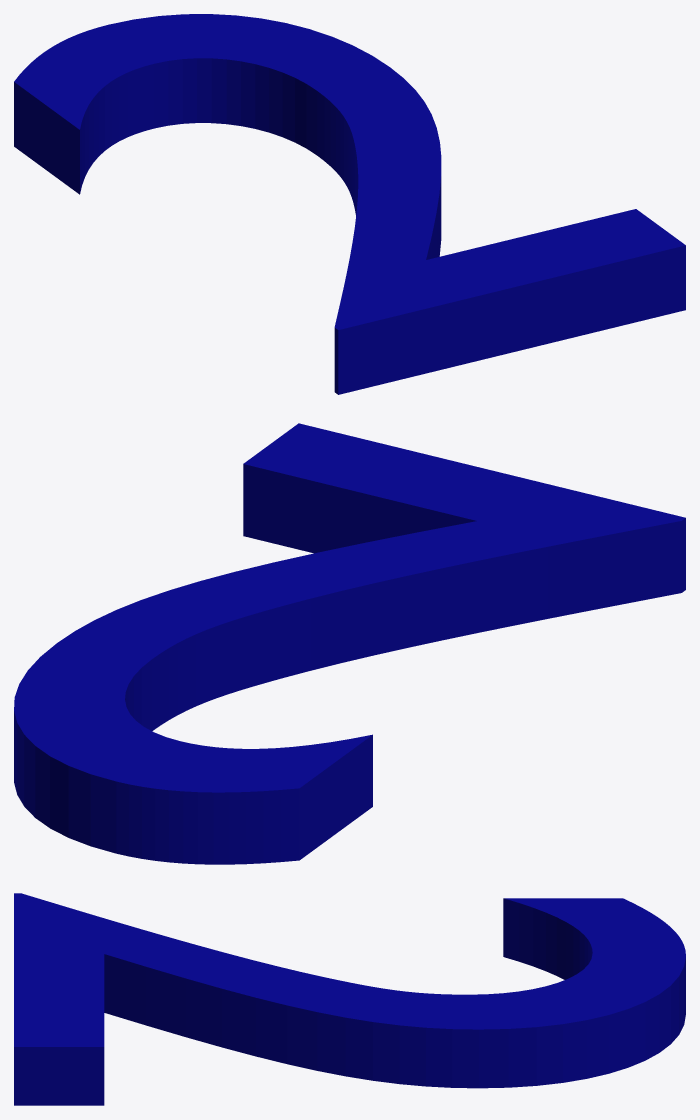
File: two.dae
The picture shows the model from 3 angles, top to bottom: view 1: azimuth 30°, elevation 25°; view 2: azimuth 150°, elevation 25°; view 3: azimuth 270°, elevation 25°; orthographic projection. The views are drawn at different scales.
Parts seen in each view (by area): view 1: Text_001; view 2: Text_001; view 3: Text_001.
Boxes of the visible parts, x1,y1,x2,y2 form: Text_001: [14, 14, 685, 394]; Text_001: [14, 423, 685, 864]; Text_001: [14, 893, 685, 1105].
Size of the model in its own units: 0.5616 by 1.04 by 0.1.
